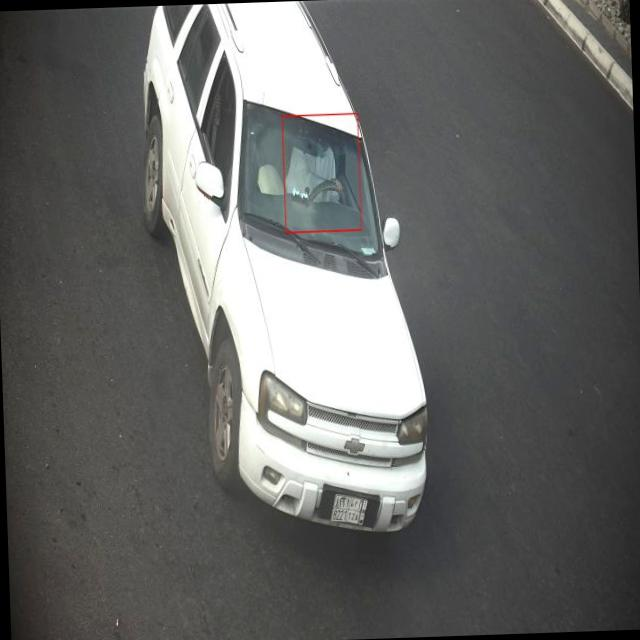person_without_seatbelt: (282, 124, 354, 221)
